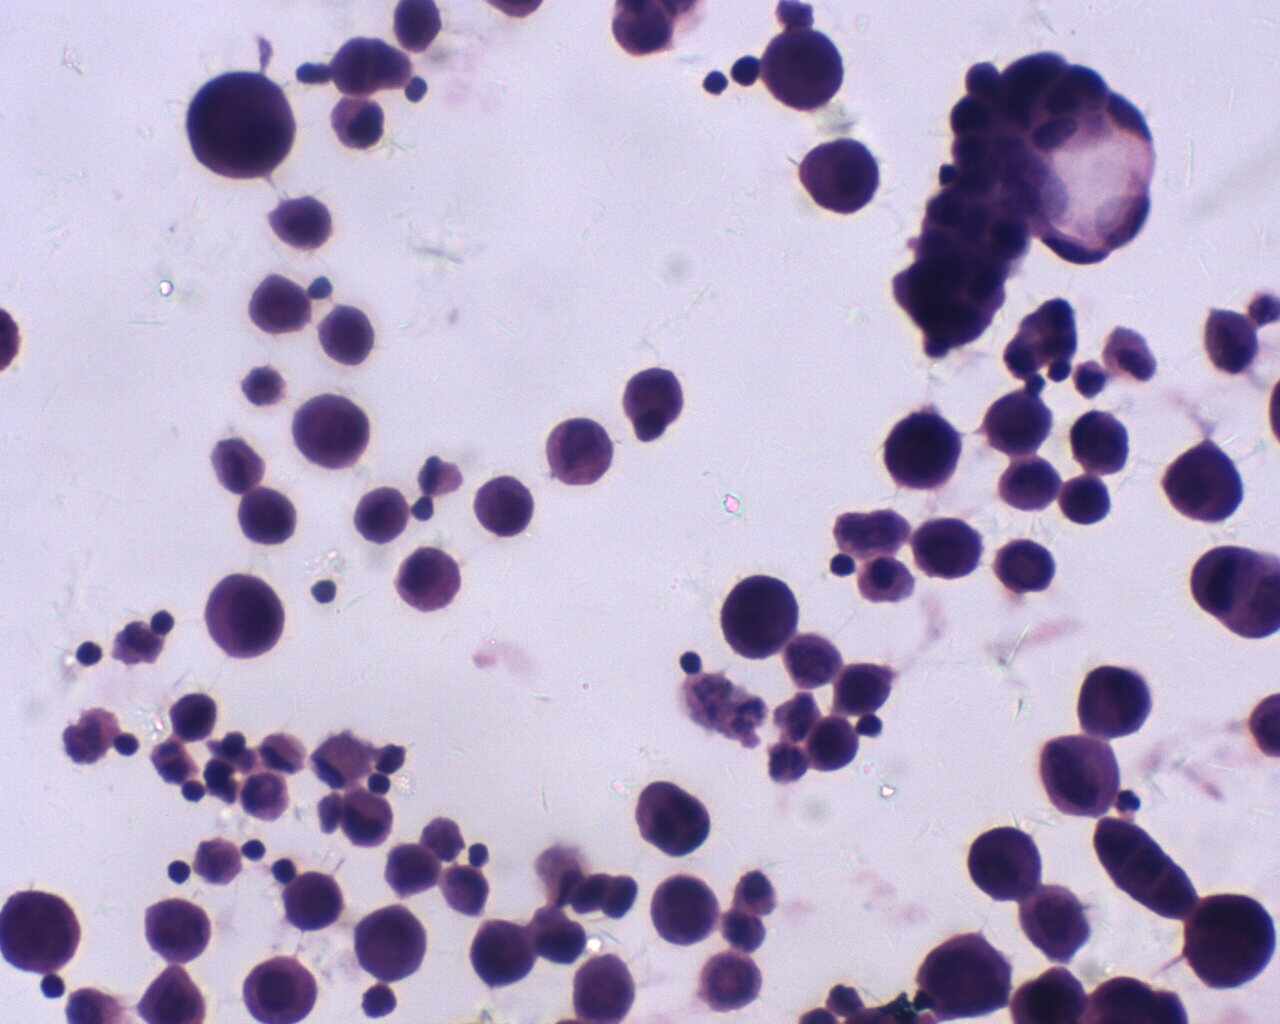ab: (182, 71, 294, 181), (1184, 894, 1280, 995), (913, 932, 1013, 1019), (1039, 734, 1131, 822), (717, 573, 801, 660), (761, 29, 846, 115), (206, 571, 284, 659), (2, 892, 82, 973), (290, 392, 369, 473), (965, 824, 1044, 903), (650, 871, 721, 948), (139, 894, 213, 965)
lymph: (304, 575, 342, 605), (71, 639, 106, 669), (698, 70, 731, 99), (166, 858, 193, 886)
meso: (239, 949, 322, 1024), (393, 545, 465, 612), (327, 95, 385, 150), (858, 556, 917, 607)
